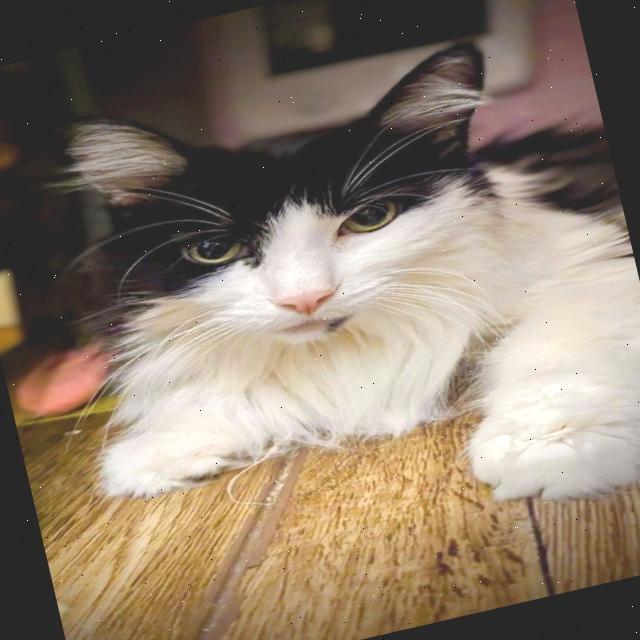domestic_long_hair_cat: (26, 1, 598, 443)
